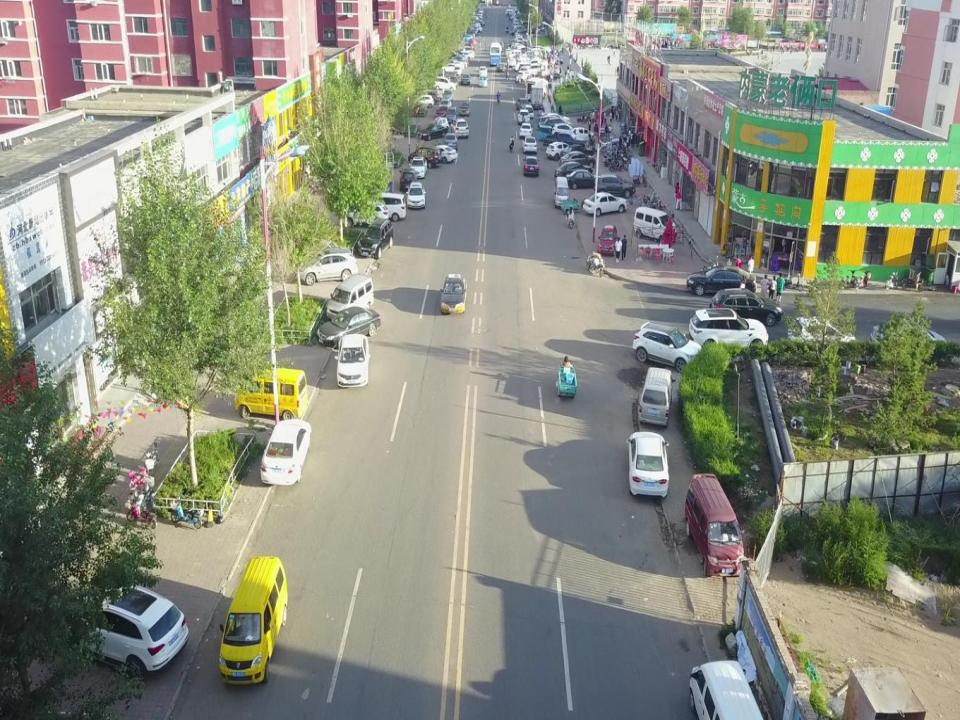car: (57, 581, 189, 672), (219, 555, 289, 686), (682, 472, 745, 577), (688, 655, 764, 720), (260, 418, 312, 486), (688, 309, 771, 351), (632, 320, 702, 366), (626, 432, 670, 501), (868, 319, 949, 355), (709, 288, 782, 327), (318, 307, 384, 347), (787, 314, 858, 351), (685, 264, 753, 298), (638, 366, 676, 426), (330, 274, 374, 315), (300, 253, 360, 283), (632, 204, 677, 244), (336, 337, 367, 390), (584, 188, 629, 221), (339, 193, 386, 223), (360, 192, 406, 220), (438, 272, 466, 316), (554, 162, 594, 182), (410, 146, 442, 171), (594, 176, 636, 195), (561, 149, 595, 170), (595, 224, 618, 255), (554, 174, 571, 211), (427, 144, 456, 165), (568, 168, 597, 188), (550, 121, 577, 140), (419, 122, 444, 142), (543, 111, 571, 128), (547, 140, 573, 158), (410, 151, 426, 180), (430, 114, 448, 137), (538, 117, 572, 129), (427, 76, 452, 92), (573, 125, 594, 143), (448, 120, 469, 138), (399, 166, 416, 188), (444, 131, 459, 154), (523, 154, 538, 176), (420, 88, 439, 104), (413, 95, 434, 109), (522, 136, 538, 153), (438, 63, 463, 73), (442, 74, 456, 90), (514, 98, 530, 112), (459, 100, 471, 116), (519, 124, 532, 138), (517, 108, 530, 122), (438, 98, 451, 111), (446, 106, 458, 120), (524, 104, 534, 118), (479, 74, 488, 88), (436, 107, 448, 117), (517, 68, 529, 78), (442, 89, 452, 100), (461, 73, 470, 84), (478, 64, 486, 75)
van: (229, 367, 307, 423)
